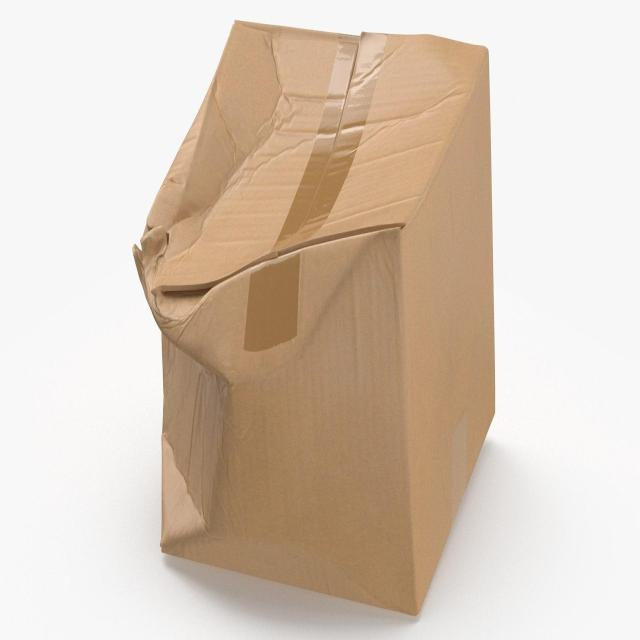Garbage: (129, 12, 502, 622)
